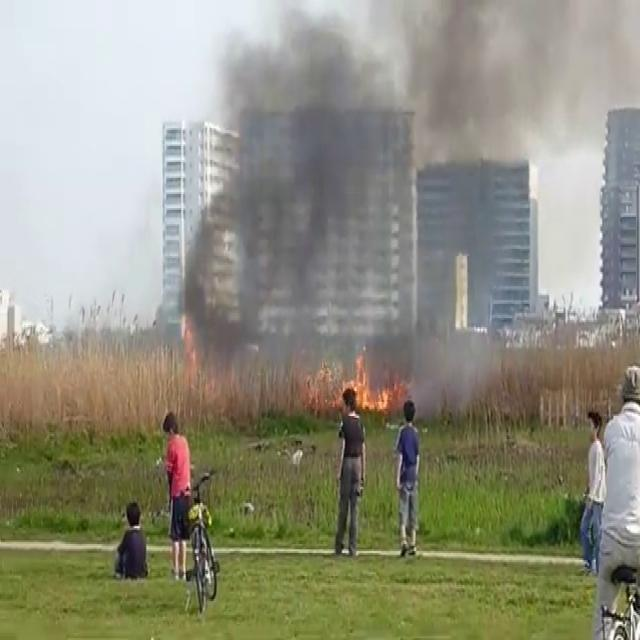Fire: (314, 350, 410, 419)
Smoke: (162, 0, 639, 388)
